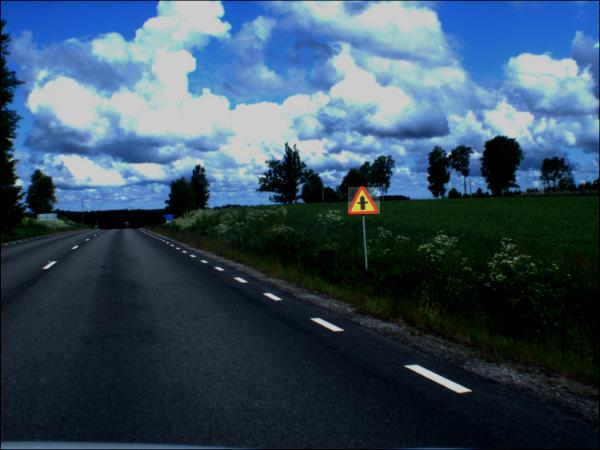WARNING: (349, 188, 382, 216)
